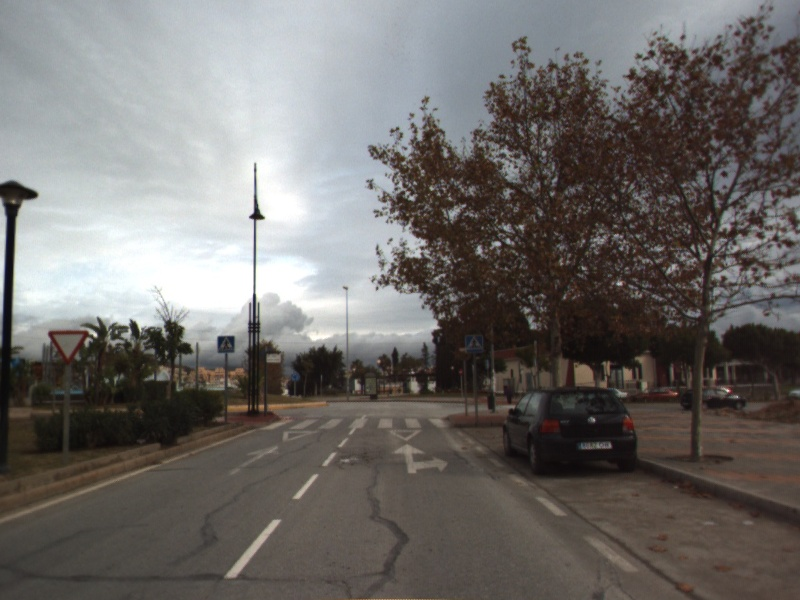STRAIGHT: (226, 443, 281, 477)
STRAIGHT_RIGHT: (390, 442, 450, 475)
